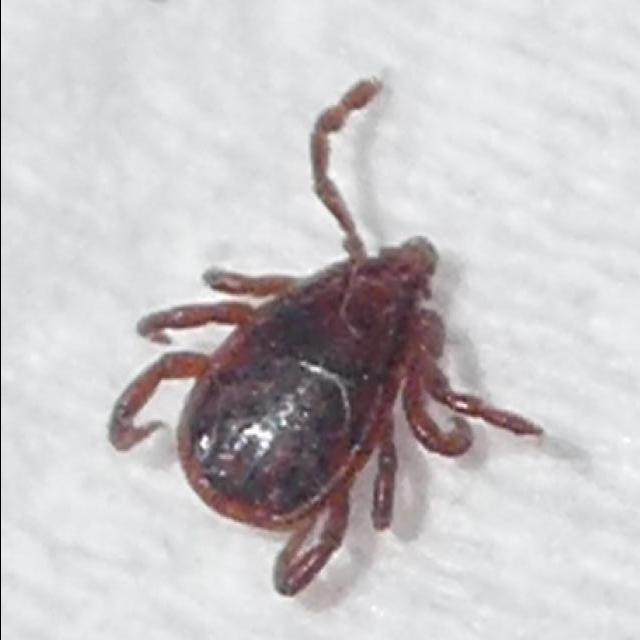Rhipicephalus Sanguineus-M: (104, 81, 540, 600)
